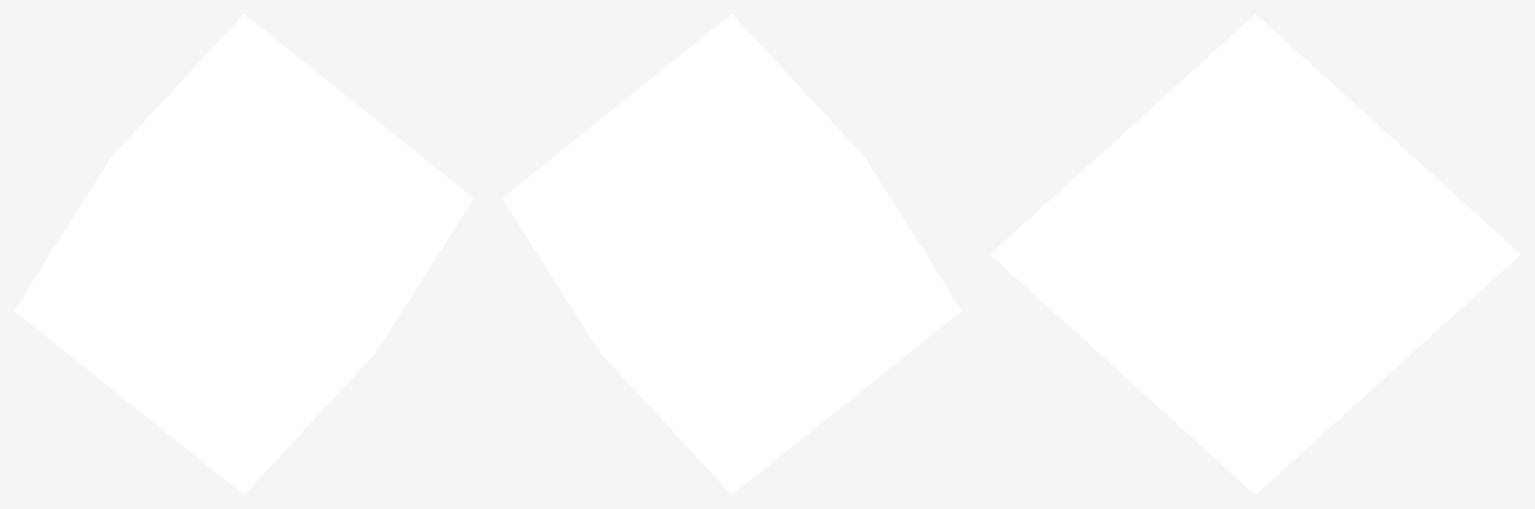
Rendered from blaster6.glb.
The picture shows the model from 3 angles, left to right: view 1: azimuth 30°, elevation 25°; view 2: azimuth 150°, elevation 25°; view 3: azimuth 270°, elevation 25°; orthographic projection.
Parts seen in each view (by area): view 1: group_13; view 2: group_13; view 3: group_13.
Boxes of the visible parts, bbox=[...] form: group_13: bbox=[14, 14, 473, 494]; group_13: bbox=[502, 14, 961, 494]; group_13: bbox=[990, 14, 1520, 494].
Bounding box in the file's own units: 520 × 520 × 520.
Materials: 1 (1 with a texture image).
